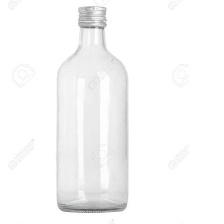bottle: (48, 4, 134, 216)
